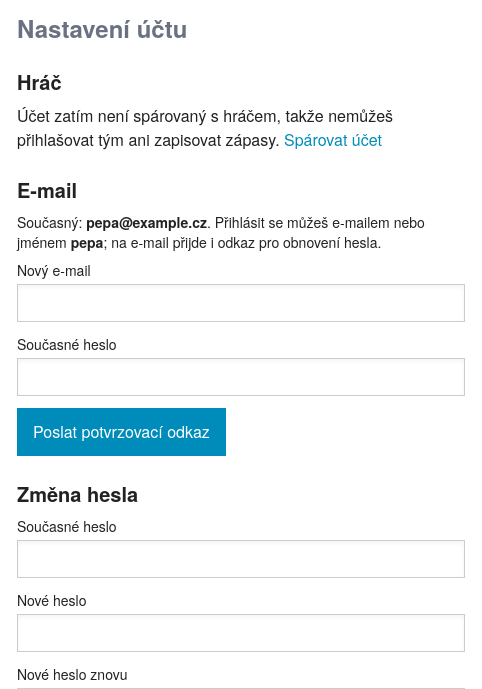
Test: e-mail change asks for the password and sends a confirmation link
Expected: the text "pepa@example.cz" is shown, [86,212,207,232]
Type "novy@example.cz" into the field labelled "Nový e-mail" at (241, 303), box [17,284,465,322]
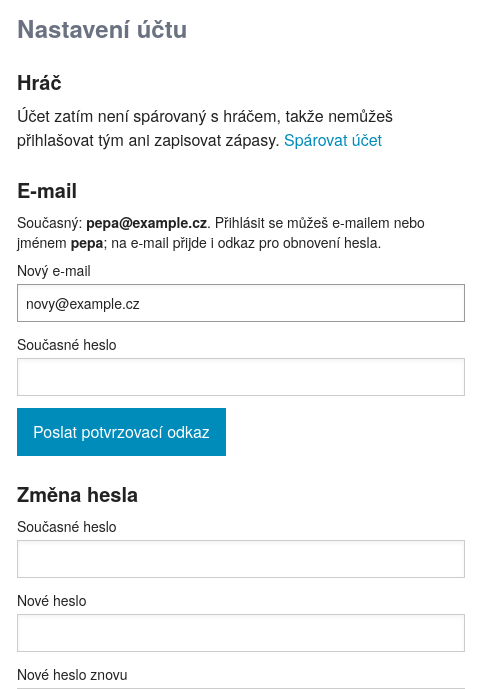
Click the button "Poslat potvrzovací odkaz" at (121, 432), box [17,408,226,456]
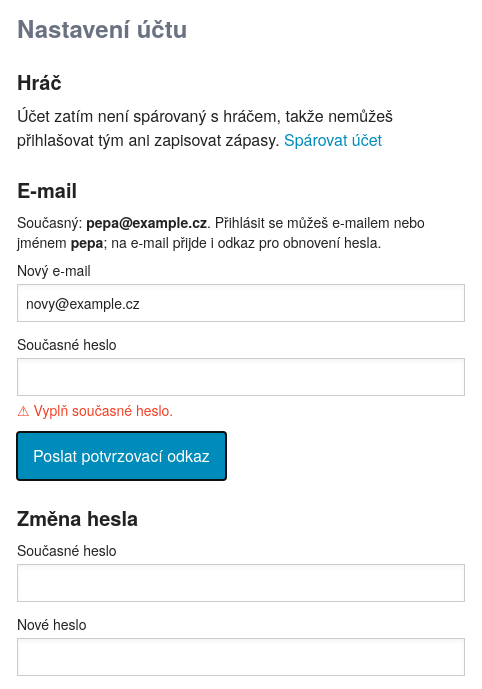
Result: the text "⚠ Vyplň současné heslo." is shown at [17,400,173,420]
Type "heslo" into the password field labelled "Současné heslo" below "Nový e-mail" at (241, 377), box [17,358,465,396]
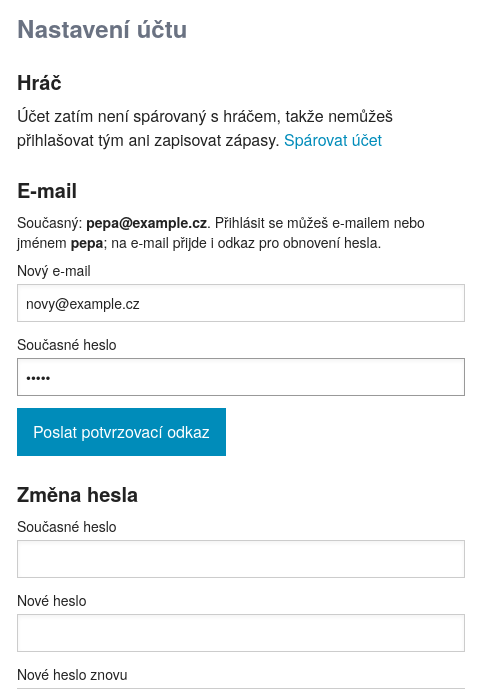
Click the button "Poslat potvrzovací odkaz" at (121, 432), box [17,408,226,456]
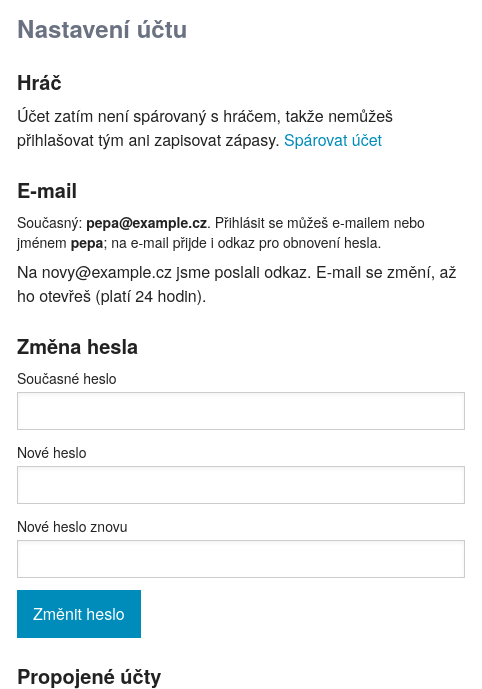
Result: the message shows "Na novy@example.cz jsme poslali odkaz" at [17,260,465,308]
